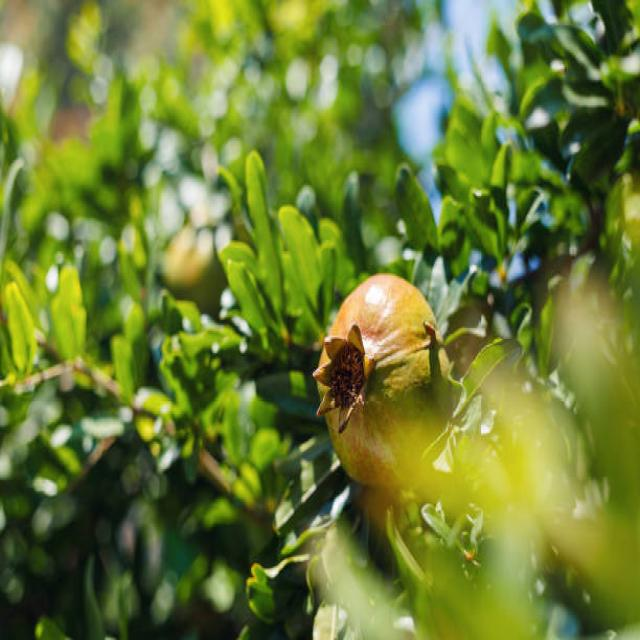Unripe: (312, 271, 450, 492)
